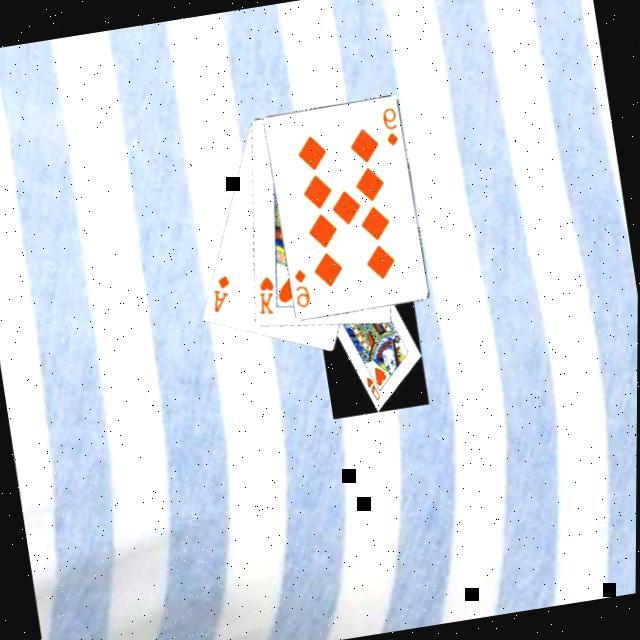9D: (380, 104, 405, 151), (292, 266, 317, 312)
AD: (208, 272, 238, 317)
KH: (253, 273, 283, 319)
